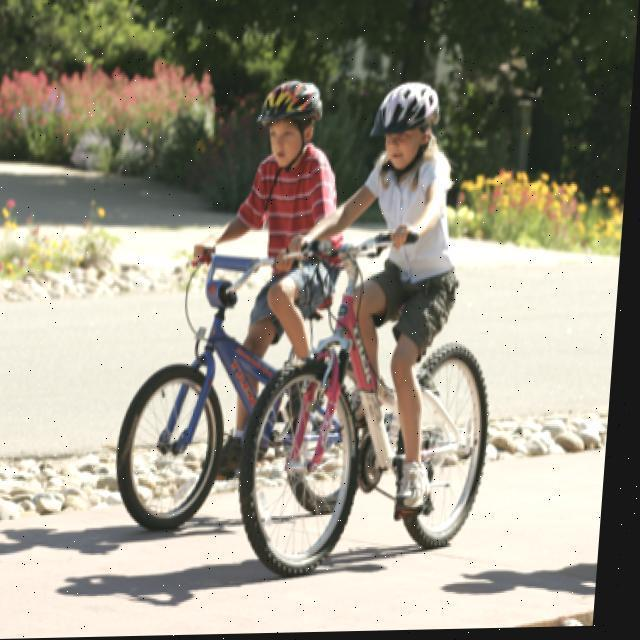Helmet: (252, 70, 333, 172), (368, 76, 452, 172)
